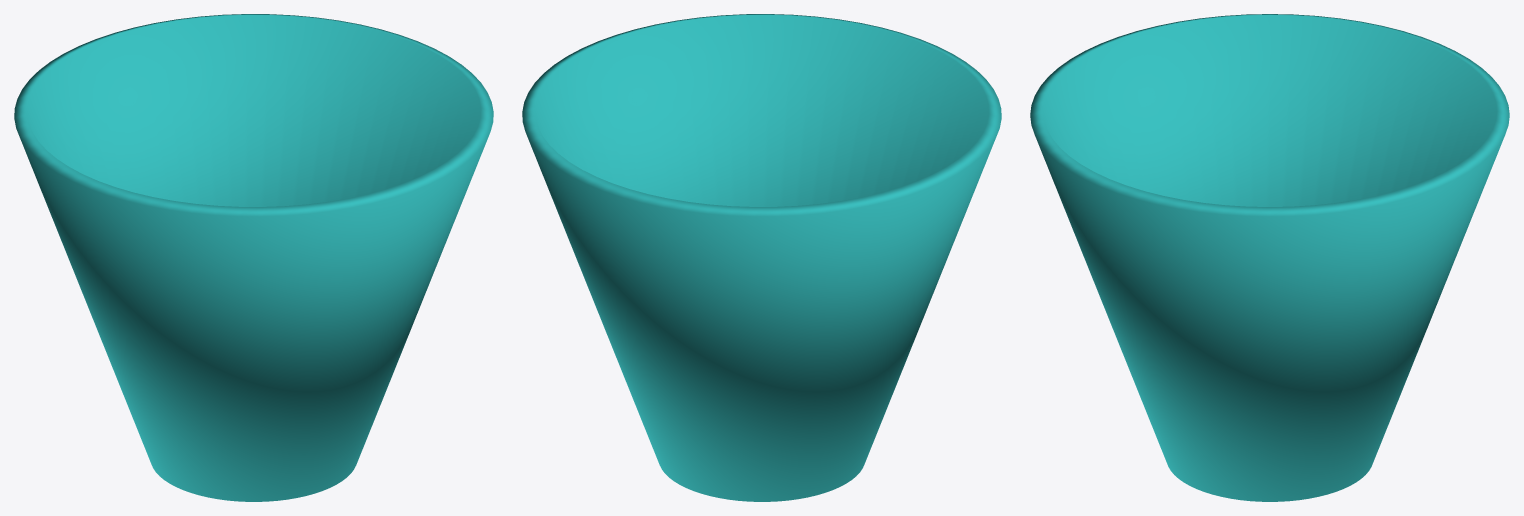
Rendered from Cono_Hueco.fbx.
3 renders of one model, left to right at view 1: azimuth 30°, elevation 25°; view 2: azimuth 150°, elevation 25°; view 3: azimuth 270°, elevation 25°, orthographic.
Visible parts, largest first — view 1: Cono_Hueco; view 2: Cono_Hueco; view 3: Cono_Hueco.
Part boxes in pixels (x1,y1,x2,y2): Cono_Hueco: (14, 14, 493, 501); Cono_Hueco: (522, 14, 1001, 501); Cono_Hueco: (1030, 14, 1509, 501).
Bounding box in the file's own units: 0.6339 × 0.5061 × 0.6339.
